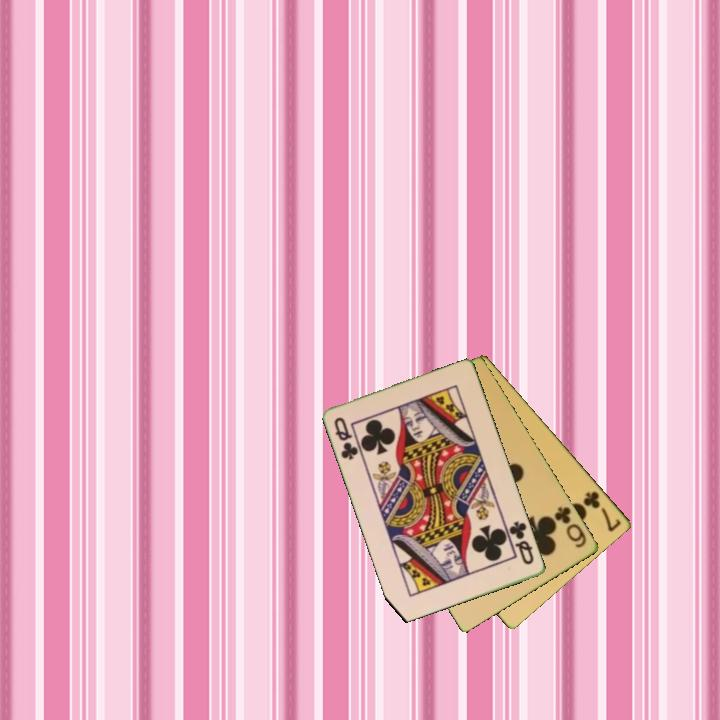6c: (551, 503, 590, 551)
7c: (580, 487, 624, 535)
Qc: (506, 517, 537, 568), (331, 414, 361, 463)
